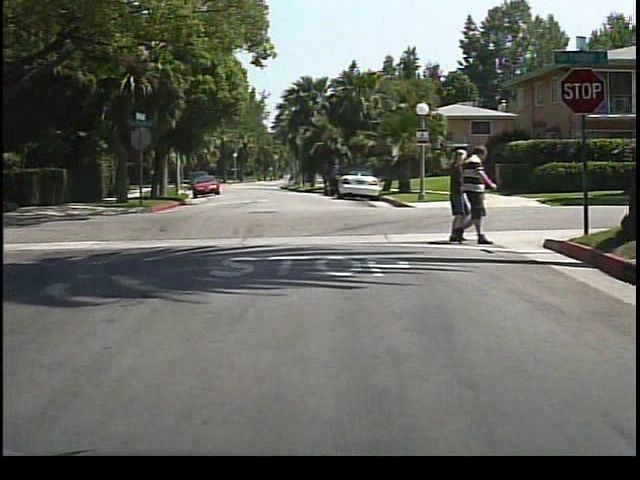person: (459, 145, 495, 247), (438, 150, 469, 243)
